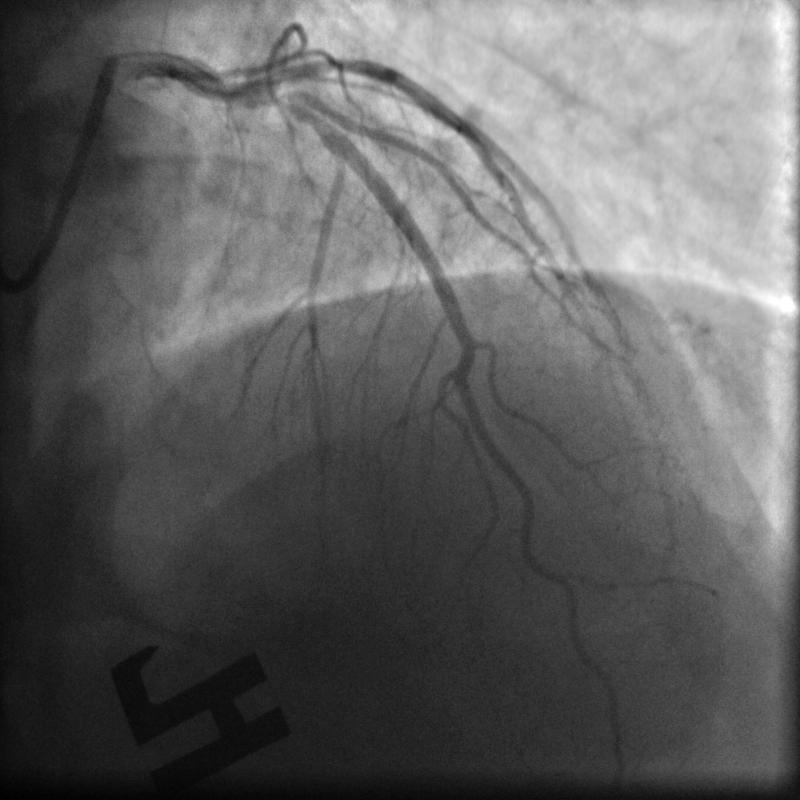Stenosis: (232, 83, 298, 119)
